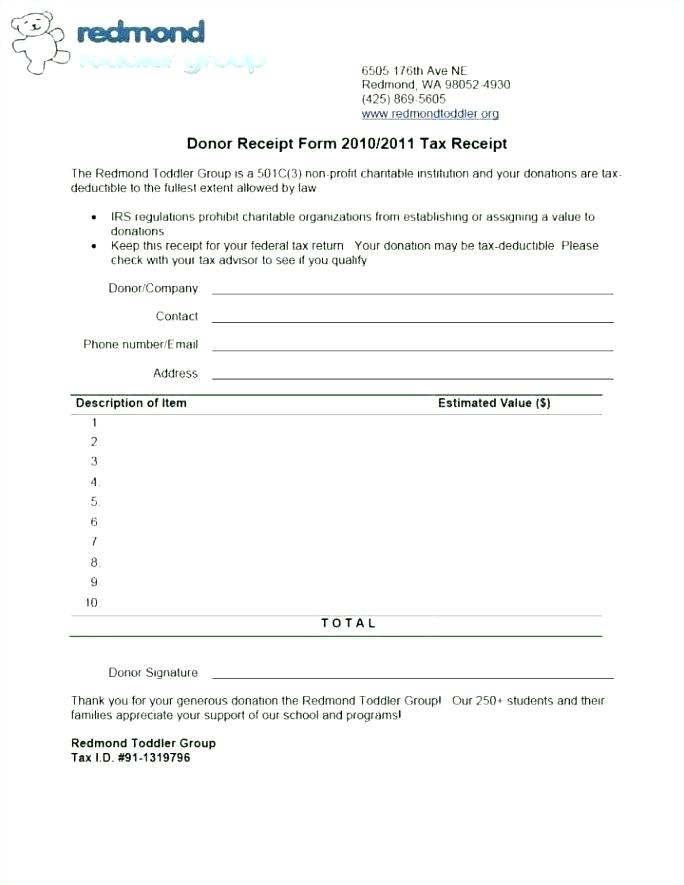textline: (209, 652, 618, 686), (209, 355, 624, 385), (207, 302, 621, 330), (209, 328, 623, 354), (210, 274, 620, 300), (379, 606, 609, 641)
